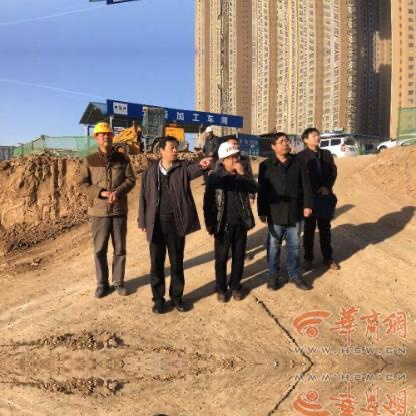No Safety Helmet: (298, 124, 330, 158), (155, 133, 184, 167), (269, 131, 294, 163)
Safety Helmet: (88, 117, 121, 160), (214, 139, 248, 174)
